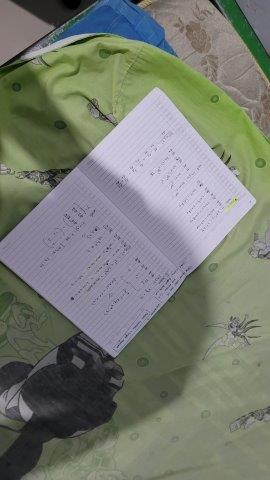kertas: (1, 88, 255, 359)
